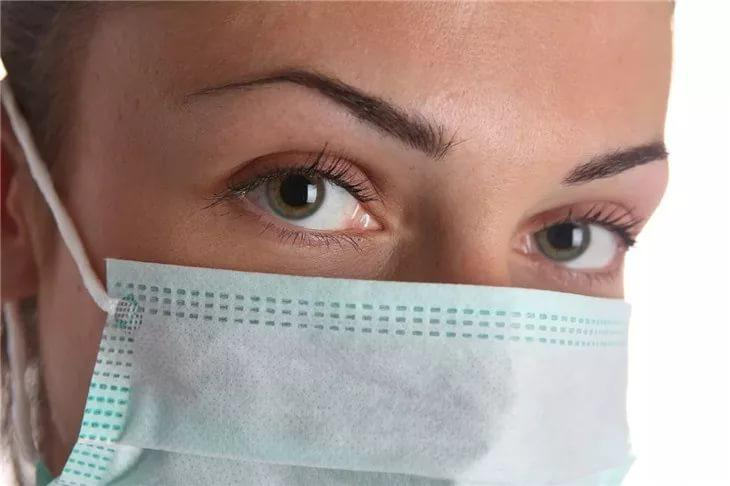mask: (26, 1, 683, 486)
